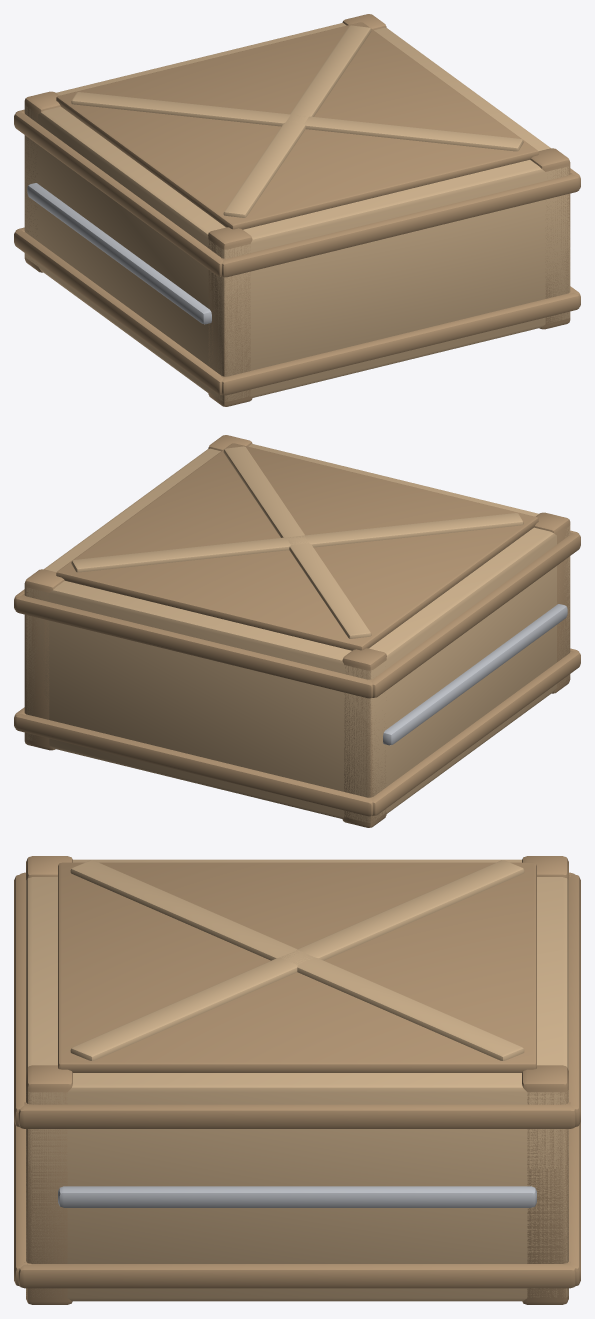
Rendered from prop_crate.glb.
The picture shows the model from 3 angles, top to bottom: view 1: azimuth 30°, elevation 25°; view 2: azimuth 150°, elevation 25°; view 3: azimuth 270°, elevation 25°; orthographic projection. The views are drawn at different scales.
Visible parts, largest first — view 1: crate; view 2: crate; view 3: crate.
Boxes of the visible parts, left/top/right/bottom form: crate: left=14, top=14, right=580, bottom=406; crate: left=14, top=435, right=580, bottom=827; crate: left=14, top=856, right=580, bottom=1304.
Bounding box in the file's own units: 71.5 × 32.5 × 71.
